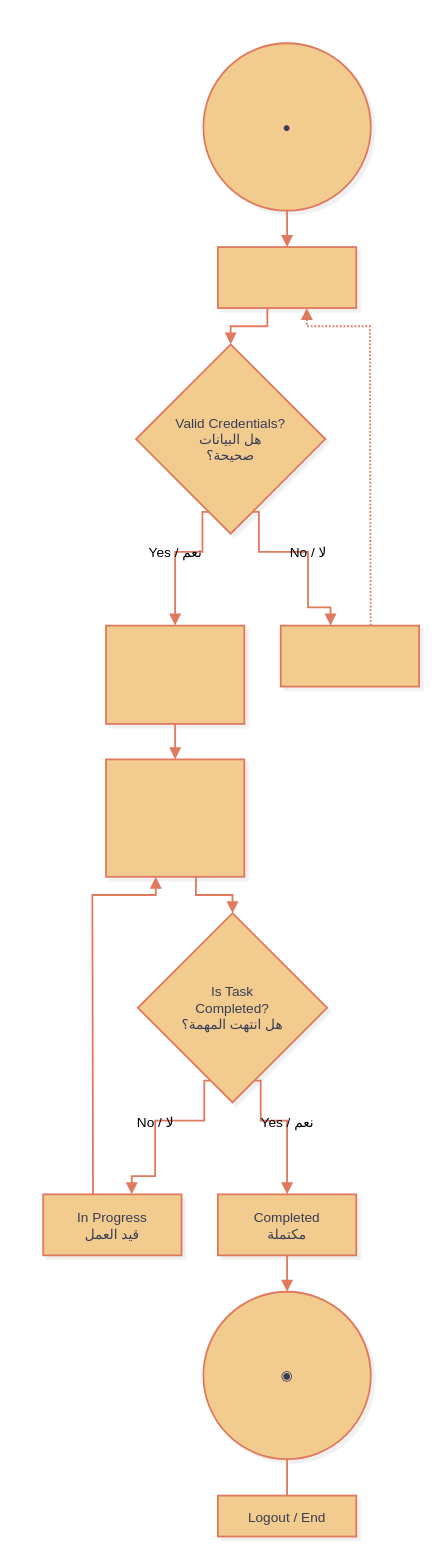
Image size: 439x1556. Some labels were removed from this diagram. The shapes that lost their labels are listed below. From the top down, each one's centre as x and y in pixels, then its label:
At (288,279): "User Login تسجيل دخول المستخدم".
At (176,676): "View Dashboard & Task List عرض لوحة التحكم وقائمة المهام".
At (351,657): "Show Error إظهار خطأ".
At (176,819): "Add or Update Task إضافة أو تحديث مهمة توزيع المهام بين ياسر ونواف".
